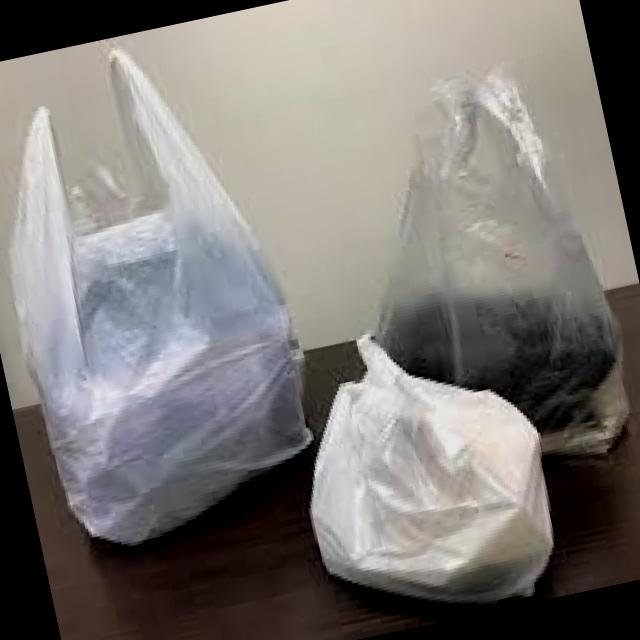plastic: (12, 51, 311, 545), (378, 74, 628, 455), (311, 338, 553, 604)
